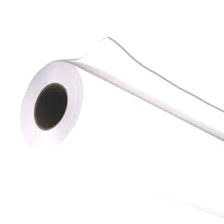tissue: (12, 31, 224, 224)
